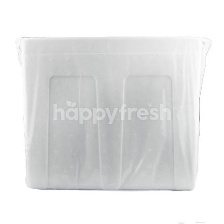foam_box: (11, 25, 213, 194)
